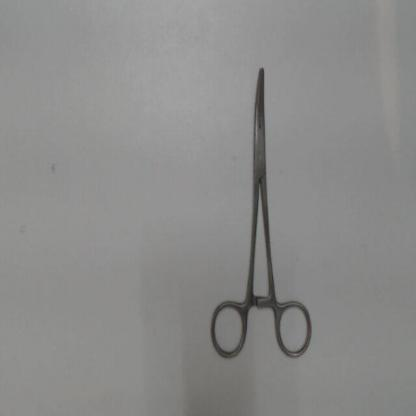Crile Artery Forceps: (206, 59, 320, 365)
